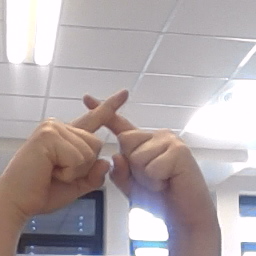X: (13, 87, 218, 216)
